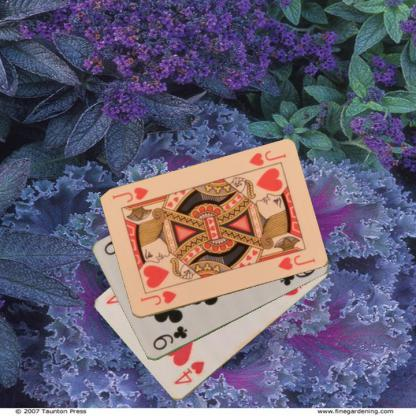4h: (171, 359, 206, 386)
9c: (150, 323, 189, 352)
Jh: (246, 148, 287, 167), (138, 288, 178, 307)
